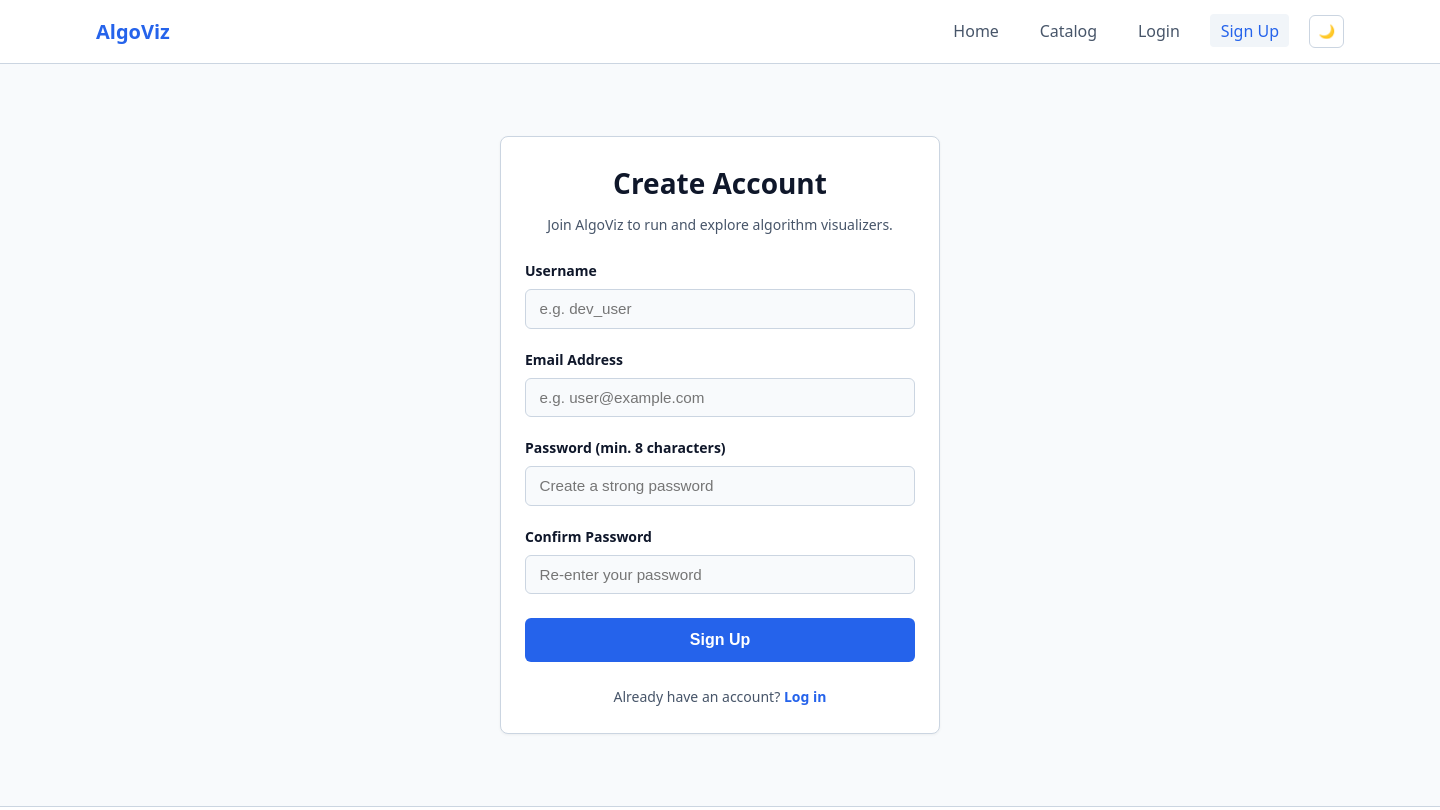
Test case: Frontend User Authentication System Tests › 4. Client-side validation shows error when passwords do not match on signup
In the field labelled "Username": (720, 309) [525,289,915,329], type "testuser"
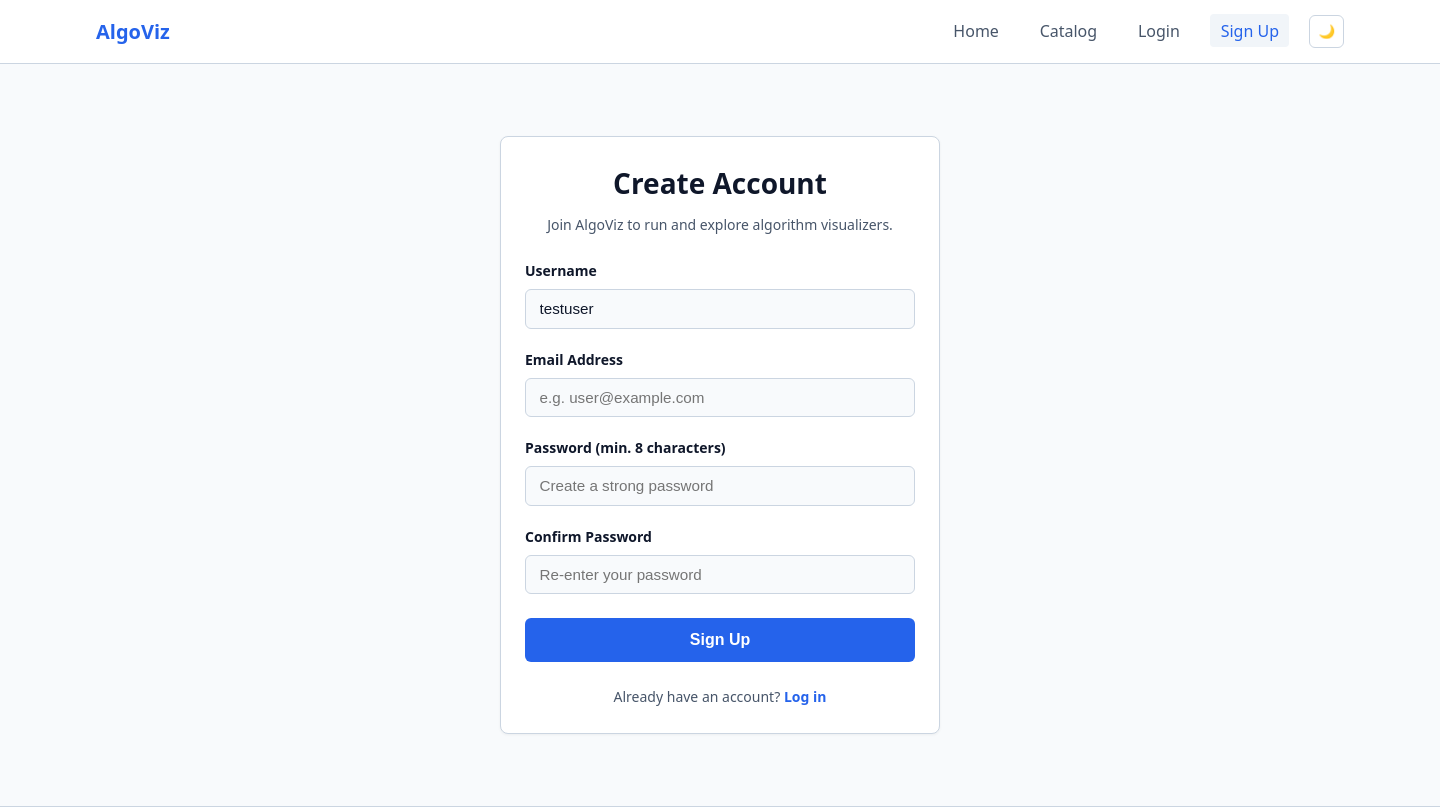
In the field labelled "Email Address": (720, 397) [525,378,915,417], type "user@example.com"
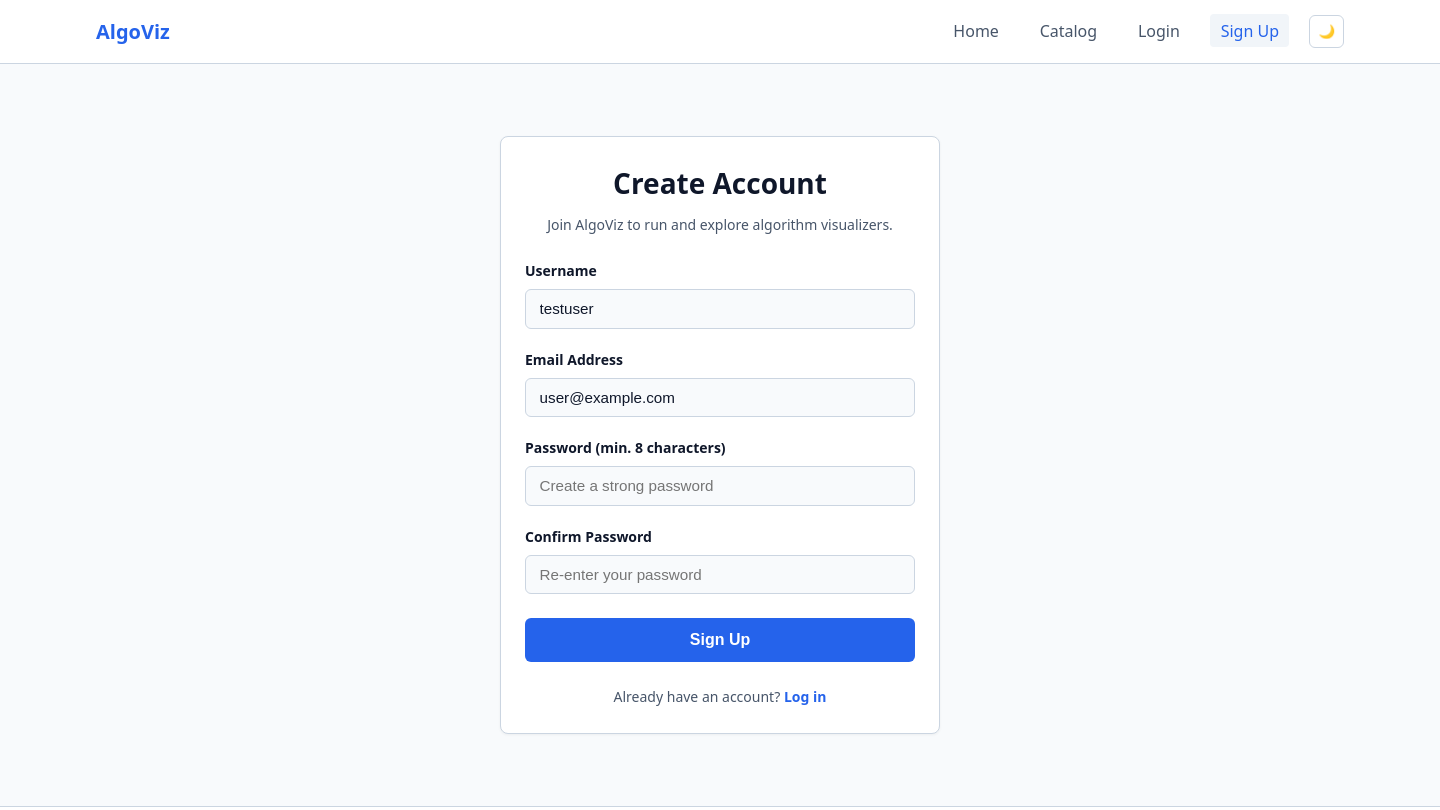
In the password field labelled "Password (min. 8 characters)": (720, 486) [525,466,915,506], type "password123"
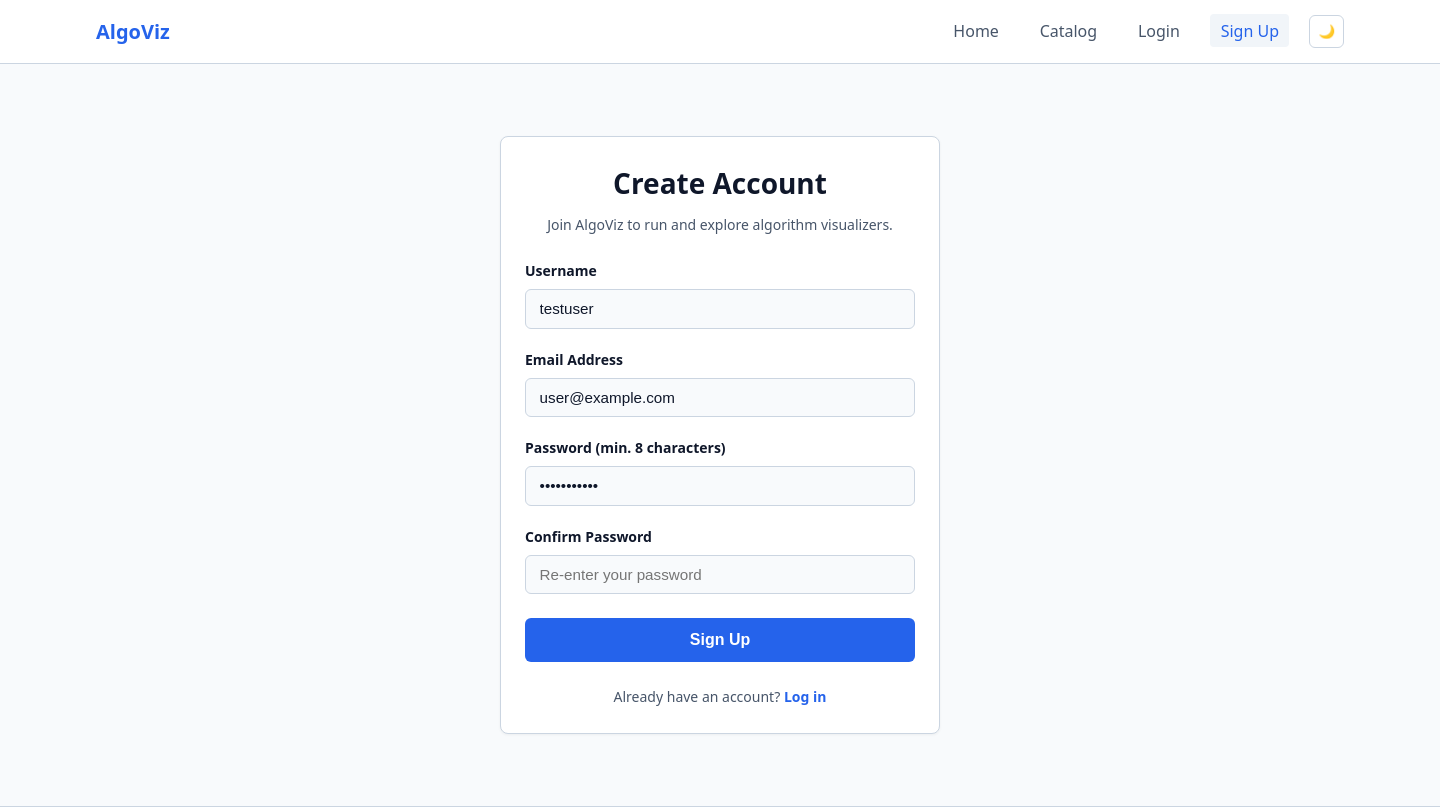
In the password field labelled "Confirm Password": (720, 575) [525,555,915,594], type "mismatch456"
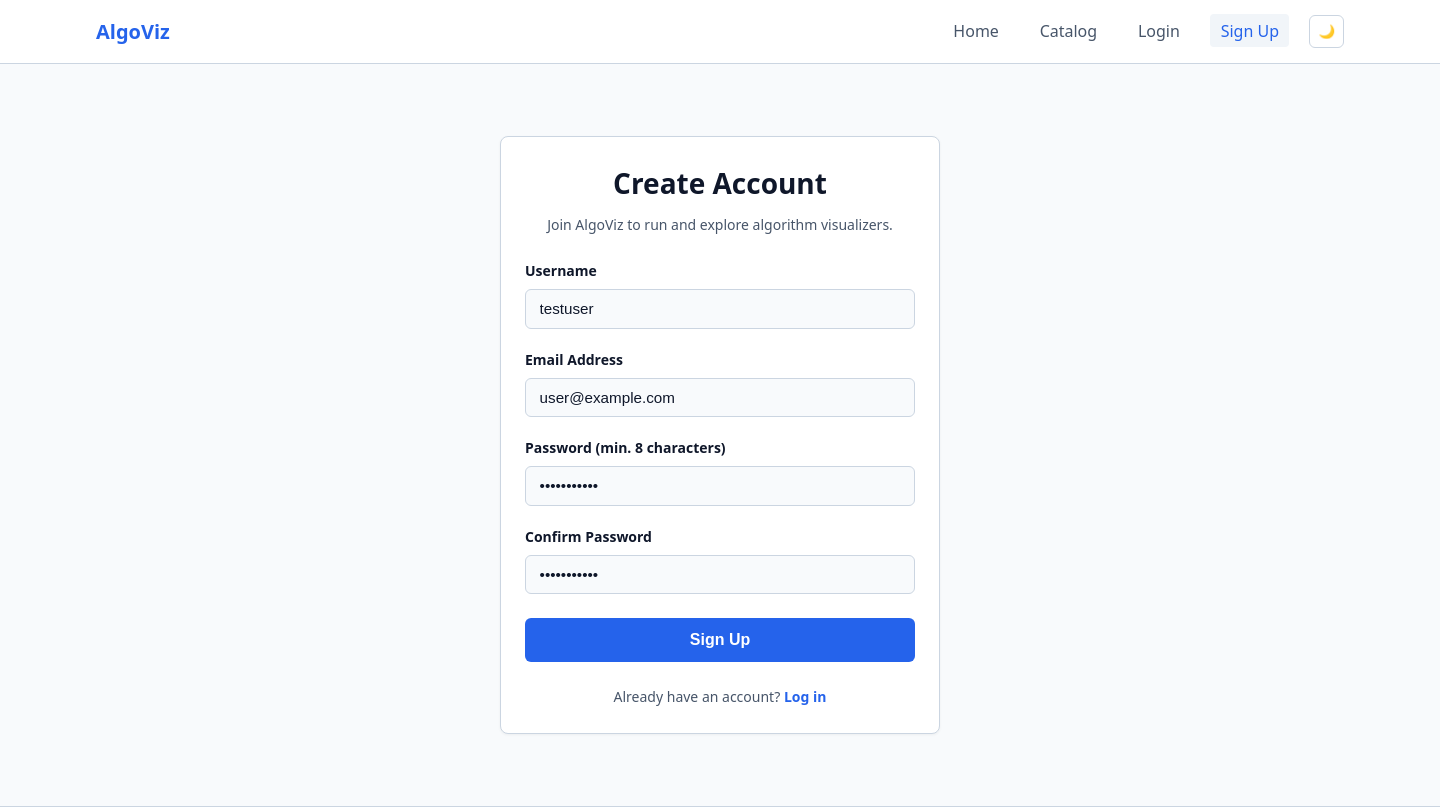
Click the button "Sign Up": (720, 640) [525,618,915,662]
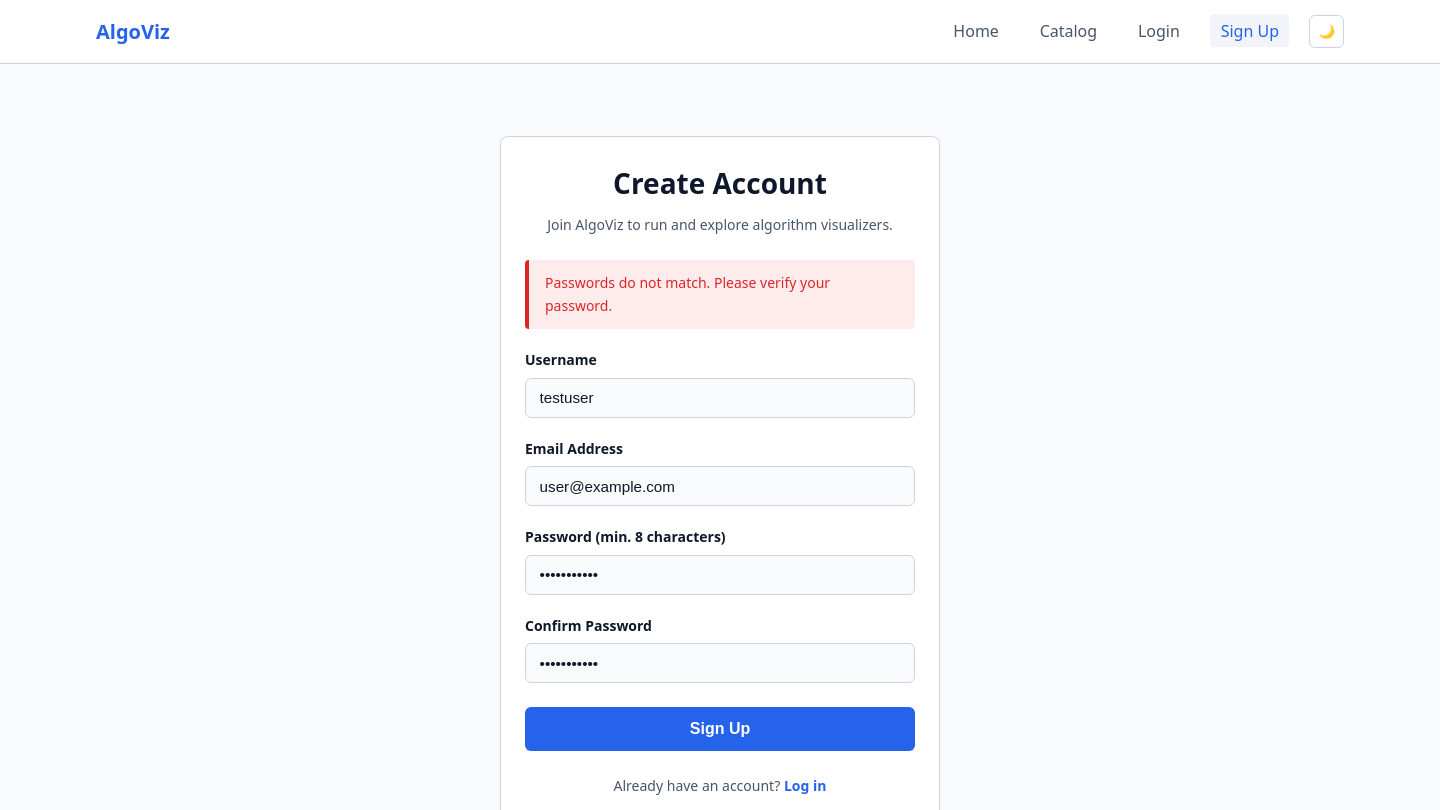
Check: the message shows "Passwords do not match", box [545,273,830,315]
